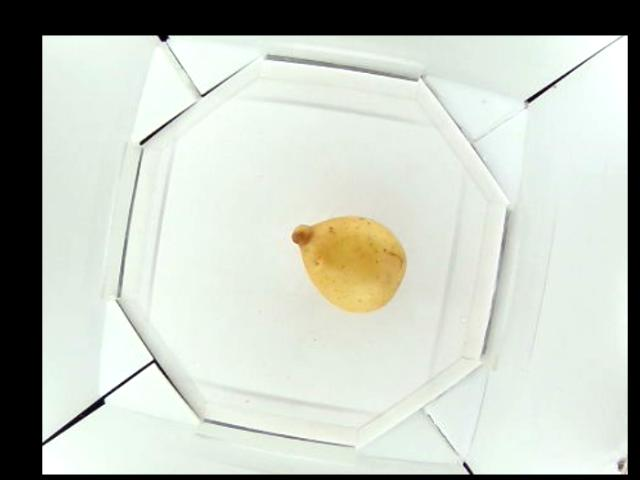Potato: (291, 212, 406, 319)
